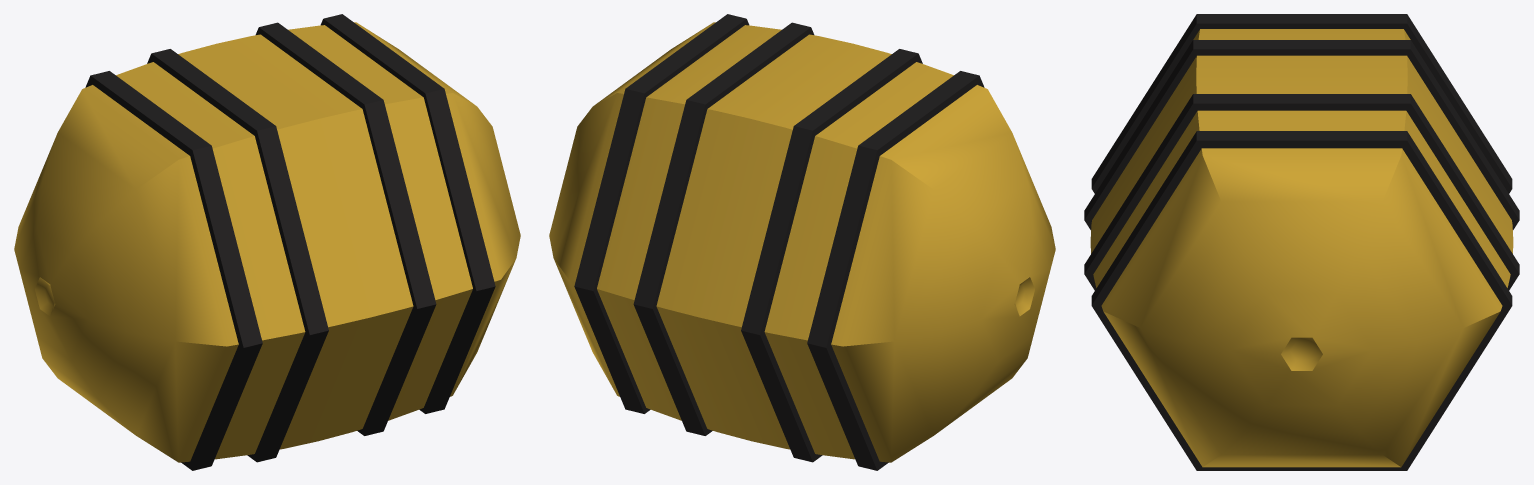
The model's file is powder_keg_d6.glb.
The picture shows the model from 3 angles, left to right: view 1: azimuth 30°, elevation 25°; view 2: azimuth 150°, elevation 25°; view 3: azimuth 270°, elevation 25°; orthographic projection. The views are drawn at different scales.
Parts seen in each view (by area): view 1: PowderKegD6; view 2: PowderKegD6; view 3: PowderKegD6.
Boxes of the visible parts, <box> form: PowderKegD6: <box>14,14,520,470</box>; PowderKegD6: <box>549,14,1055,470</box>; PowderKegD6: <box>1084,14,1519,470</box>.
Size of the model in its own units: 0.0974 by 0.0694 by 0.0801.
